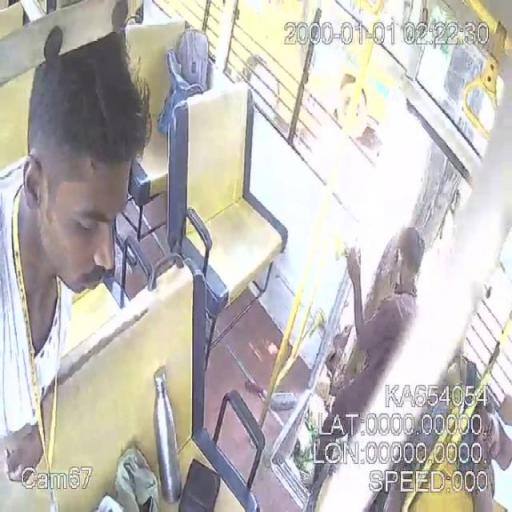persona: (0, 24, 154, 494), (309, 212, 423, 503)
